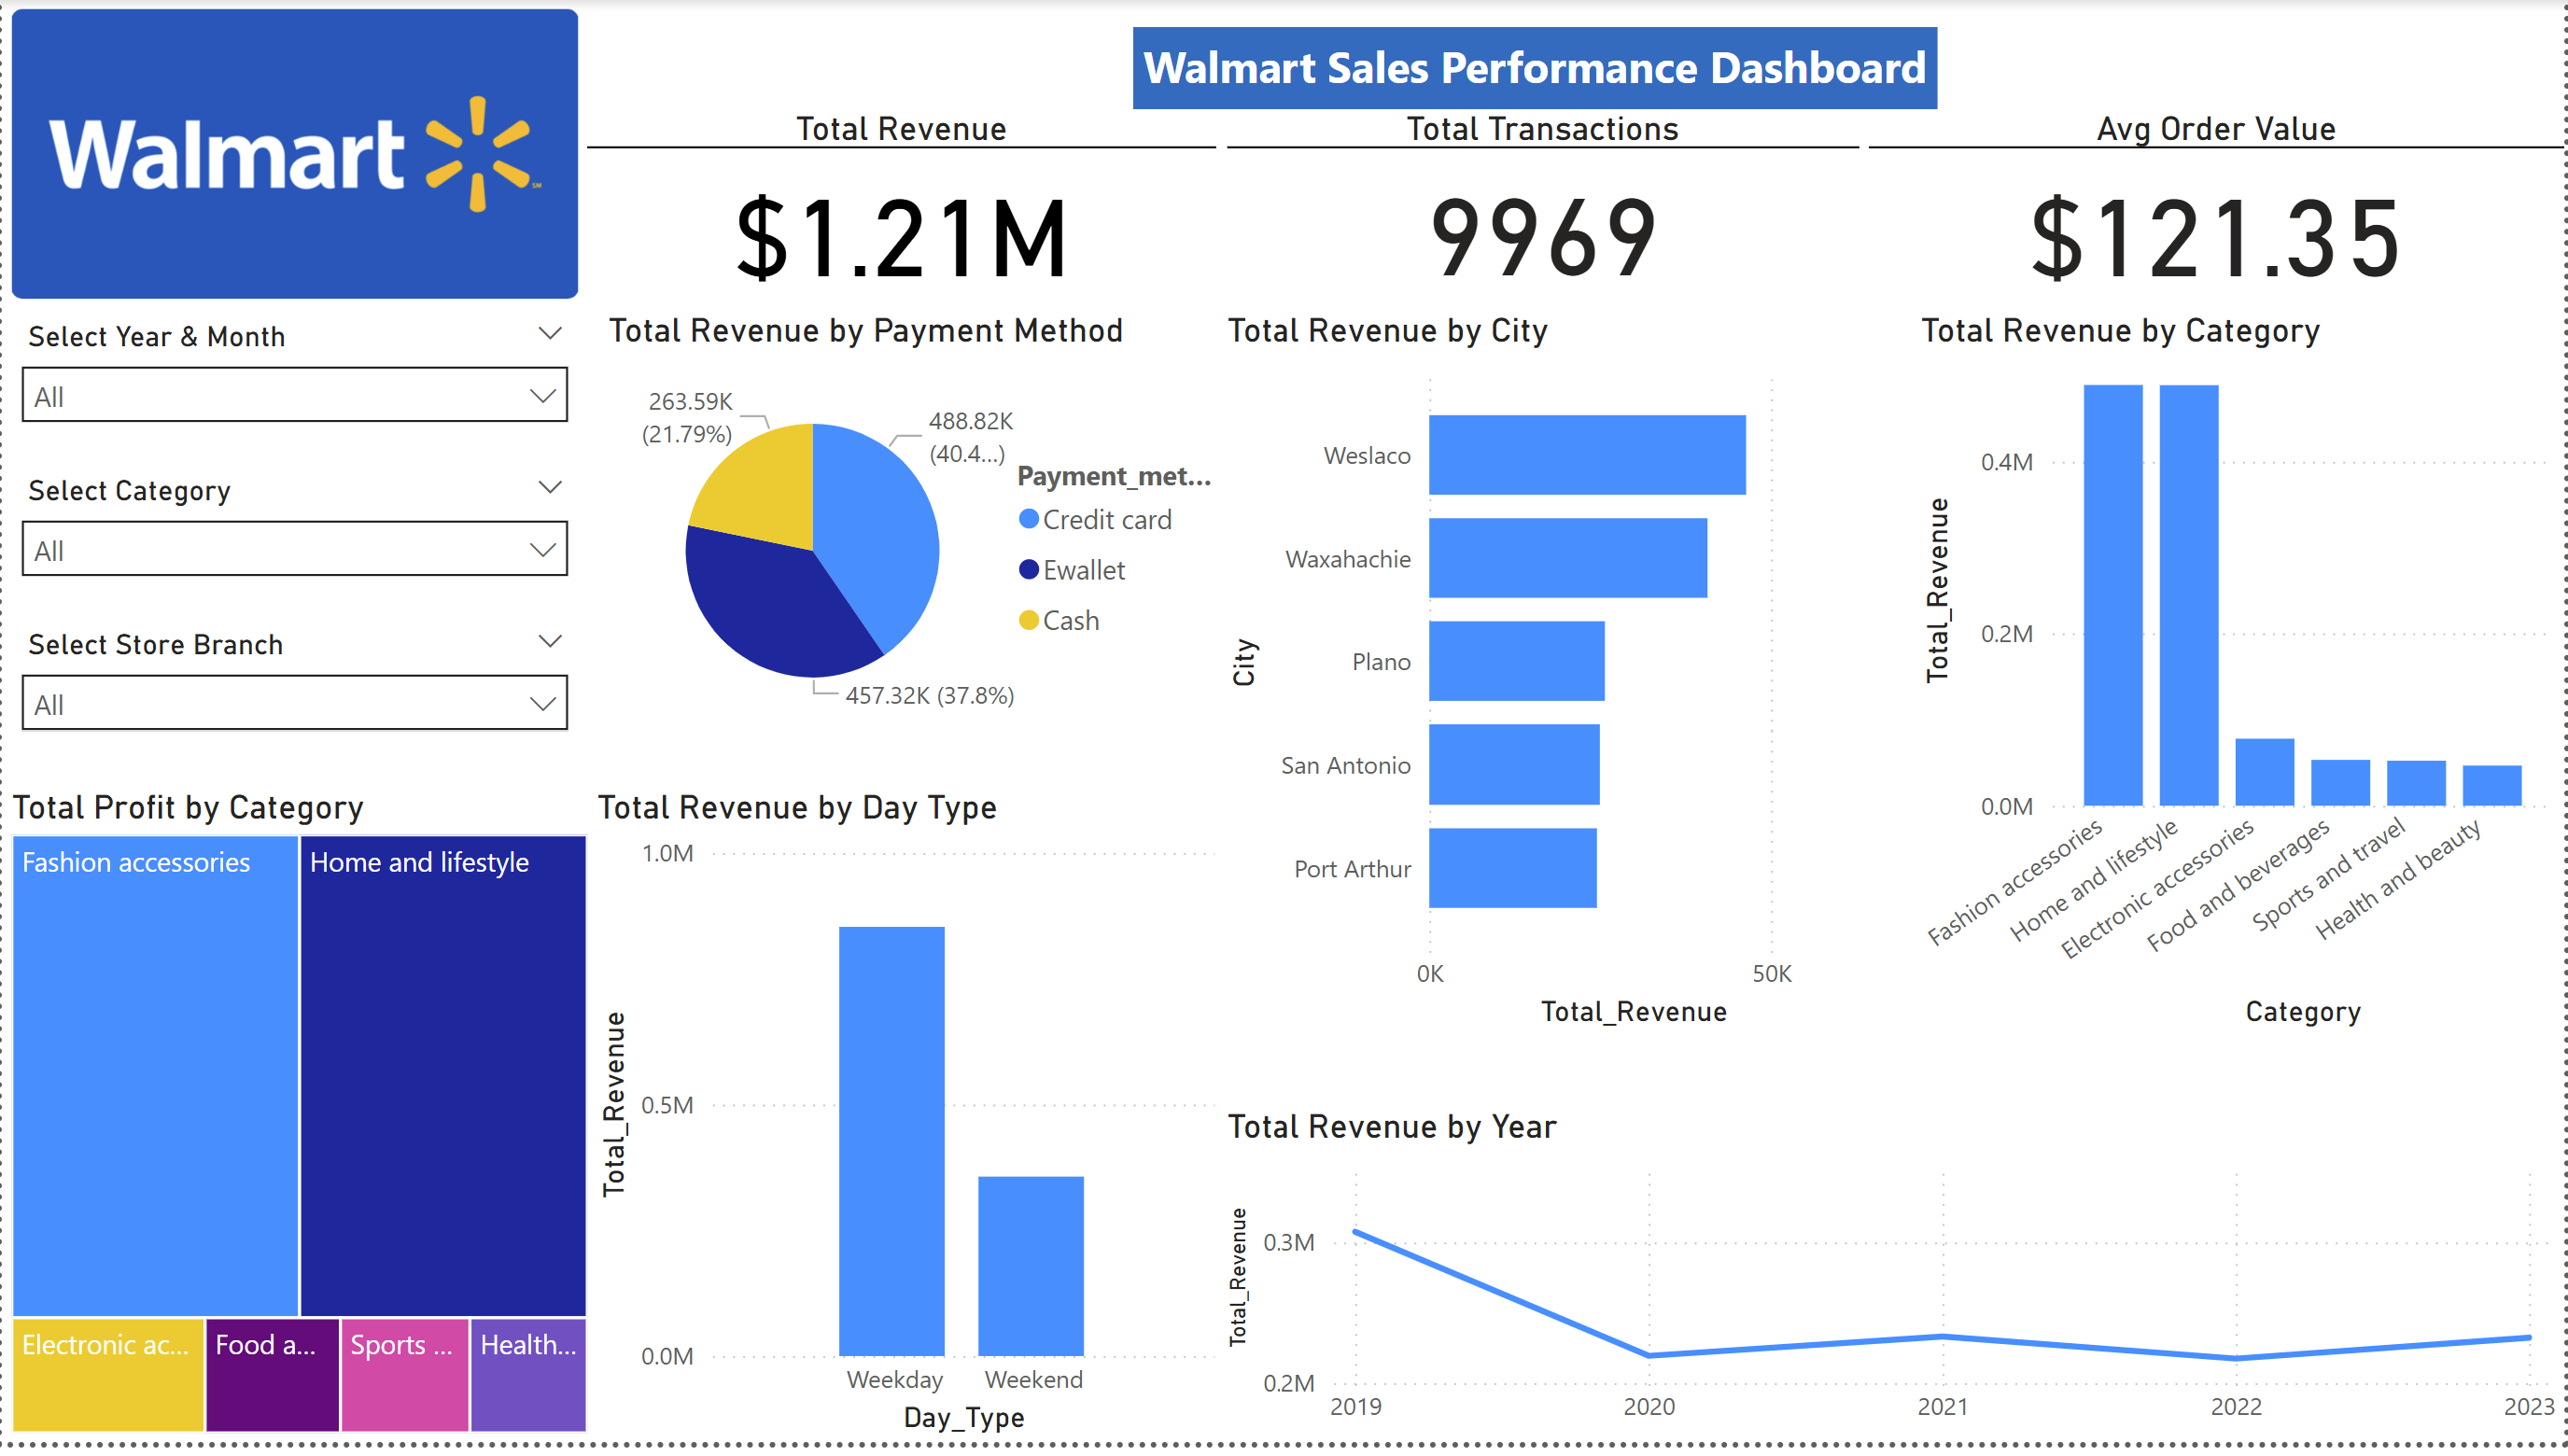

The page's visual inventory and layout, read from the dashboard file:
{"tool":"powerbi","page":{"name":"Performance Analysis","canvas":[1280,720],"ordinal":0},"visuals":[{"type":"image","box":[0,0,292.7,154.7],"z":0},{"type":"card","title":"Total Revenue","fields":{"Values":["Walmart_Sales.Total_Revenue"]},"box":[292.7,54.6,313.9,100.1],"z":1000},{"type":"card","title":"Total Transactions","fields":{"Values":["Walmart_Sales.Total_Transactions"]},"box":[606.6,54.6,326.1,100.1],"z":2000},{"type":"card","title":"Avg Order Value","fields":{"Values":["Walmart_Sales.Avg_Order_Value"]},"box":[932.7,54.6,347.3,100.1],"z":3000},{"type":"clusteredBarChart","title":"Total Revenue by City","fields":{"Category":["Walmart_Sales.City"],"Y":["Walmart_Sales.Total_Revenue"]},"box":[606.6,154.7,326.1,362.5],"z":4000},{"type":"clusteredColumnChart","title":"Total Revenue by Category","fields":{"Category":["Walmart_Sales.Category"],"Y":["Walmart_Sales.Total_Revenue"]},"box":[953.9,154.7,326.1,362.5],"z":5000},{"type":"lineChart","title":"Total Revenue by Year","fields":{"Y":["Walmart_Sales.Total_Revenue"],"Category":["Walmart_Sales.Date.Variation.Date Hierarchy.Year","Walmart_Sales.Date.Variation.Date Hierarchy.Quarter","Walmart_Sales.Date.Variation.Date Hierarchy.Month","Walmart_Sales.Date.Variation.Date Hierarchy.Day"]},"box":[606.6,552,673.4,168.3],"z":6000},{"type":"pieChart","title":"Total Revenue by Payment Method","fields":{"Category":["Walmart_Sales.Payment_method"],"Y":["Walmart_Sales.Total_Revenue"]},"box":[297.3,154.7,313.9,221.4],"z":7000},{"type":"columnChart","title":"Total Revenue by Day Type","fields":{"Category":["Walmart_Sales.Day_Type"],"Y":["Walmart_Sales.Total_Revenue"]},"box":[292.7,392.8,318.5,327.6],"z":8000},{"type":"treemap","title":"Total Profit by Category","fields":{"Group":["Walmart_Sales.Category"],"Values":["Walmart_Sales.Total_Profit"]},"box":[0,392.8,297.3,327.6],"z":9000},{"type":"slicer","fields":{"Values":["Walmart_Sales.Date.Variation.Date Hierarchy.Year","Walmart_Sales.Date.Variation.Date Hierarchy.Month"]},"box":[0,154.7,292.7,66.7],"z":9001},{"type":"slicer","fields":{"Values":["Walmart_Sales.Category"]},"box":[0,232,292.7,66.7],"z":9002},{"type":"slicer","fields":{"Values":["Walmart_Sales.Branch"]},"box":[0,309.4,292.7,66.7],"z":9003},{"type":"textbox","box":[564.2,13.6,404.9,40.9],"z":9004}]}

Visuals, with their boxes in screenshot pixels (x1, y1, x2, y2), scaled from the page's 1280x720 canvas onto the 2568x1456 screenshot:
image: box(0, 0, 587, 313)
"Total Revenue" card: box(587, 110, 1217, 313)
"Total Transactions" card: box(1217, 110, 1872, 313)
"Avg Order Value" card: box(1872, 110, 2567, 313)
"Total Revenue by City" clusteredBarChart: box(1217, 313, 1872, 1046)
"Total Revenue by Category" clusteredColumnChart: box(1914, 313, 2567, 1046)
"Total Revenue by Year" lineChart: box(1217, 1116, 2567, 1455)
"Total Revenue by Payment Method" pieChart: box(596, 313, 1227, 761)
"Total Revenue by Day Type" columnChart: box(587, 794, 1227, 1455)
"Total Profit by Category" treemap: box(0, 794, 596, 1455)
slicer - Walmart_Sales.Date.Variation.Date Hierarchy.Year x Walmart_Sales.Date.Variation.Date Hierarchy.Month: box(0, 313, 587, 448)
slicer - Walmart_Sales.Category: box(0, 469, 587, 604)
slicer - Walmart_Sales.Branch: box(0, 625, 587, 761)
textbox: box(1132, 27, 1944, 110)
